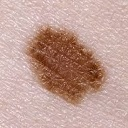Melanoma: (27, 29, 108, 99)
